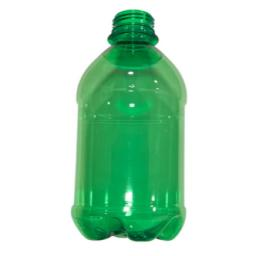Plastic: (68, 6, 189, 242)
